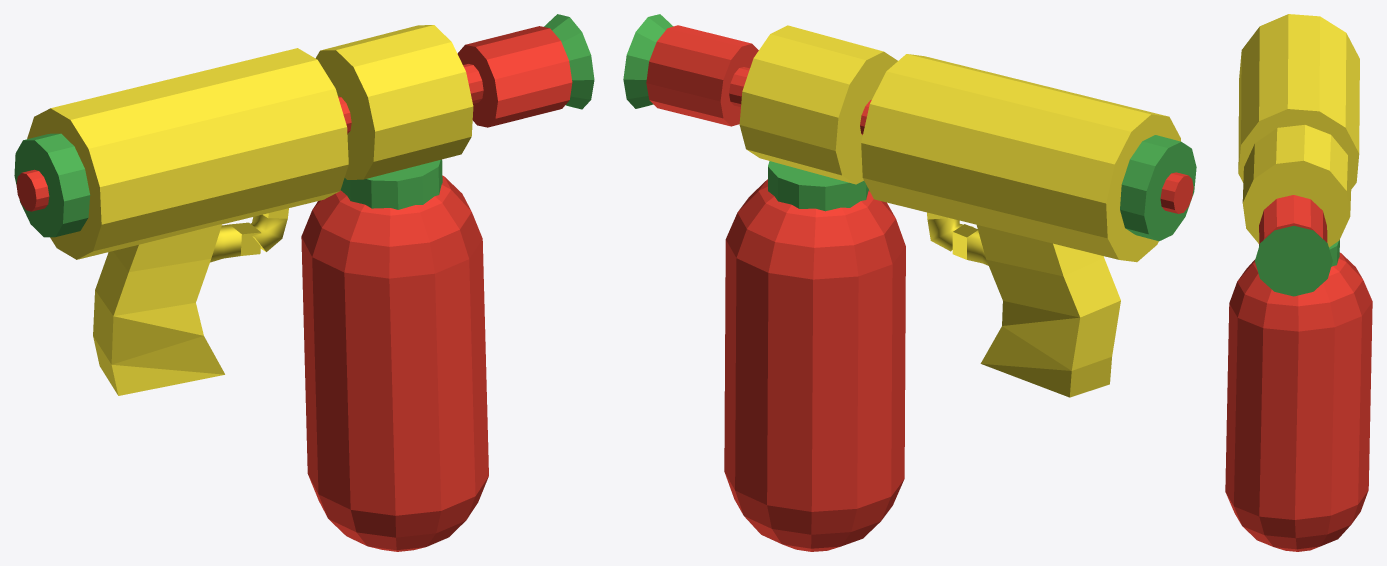
File: spray-gun.fbx
The picture shows the model from 3 angles, left to right: view 1: azimuth 30°, elevation 25°; view 2: azimuth 150°, elevation 25°; view 3: azimuth 270°, elevation 25°; orthographic projection. The views are drawn at different scales.
Parts seen in each view (by area): view 1: water-gun; view 2: water-gun; view 3: water-gun.
Part boxes in pixels (box(x1,y1,x2,y2)): water-gun: box(14, 14, 594, 551); water-gun: box(623, 14, 1196, 551); water-gun: box(1225, 14, 1372, 551).
Bounding box in the file's own units: 109 × 98.03 × 32.47.
